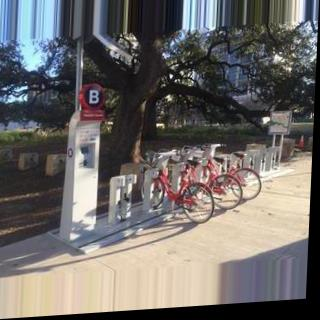Bike: (141, 144, 218, 227), (185, 141, 245, 212), (222, 149, 264, 204)
